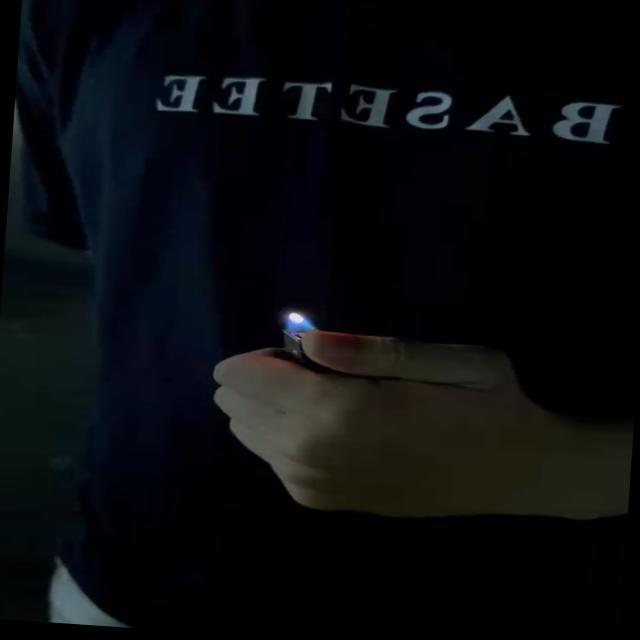Fire: (279, 309, 315, 337)
